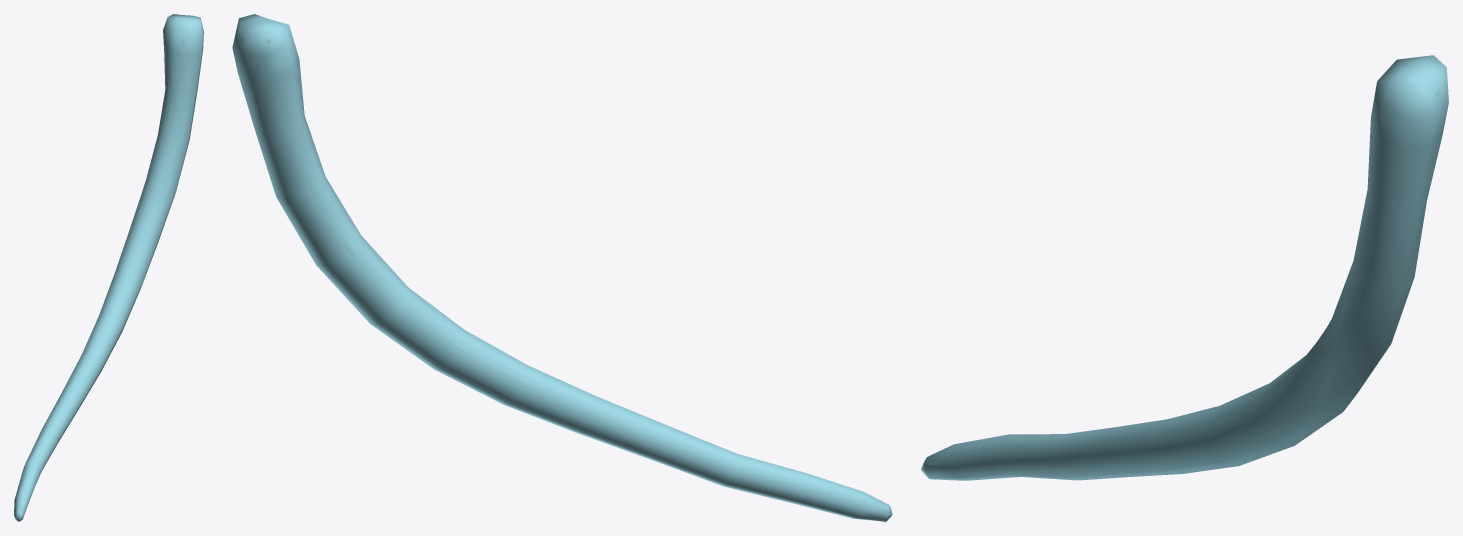
3 renders of one model, left to right at view 1: azimuth 30°, elevation 25°; view 2: azimuth 150°, elevation 25°; view 3: azimuth 270°, elevation 25°, orthographic. The views are drawn at different scales.
Visible parts, largest first — view 1: CC L8 low, CC L8; view 2: CC L8 low, CC L8; view 3: CC L8 low, CC L8.
Part boxes in pixels (x1,y1,x2,y2): CC L8 low: (14,14,203,521); CC L8: (15,38,199,518); CC L8 low: (232,14,892,521); CC L8: (240,36,890,520); CC L8 low: (921,55,1448,480); CC L8: (923,91,1439,479).
Bounding box in the file's own units: 2.94 × 3.16 × 2.19.
